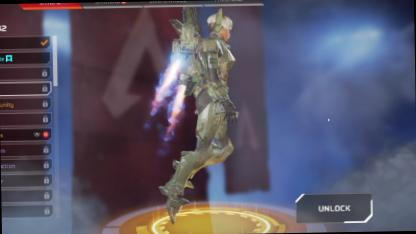Target: (158, 11, 241, 191)
